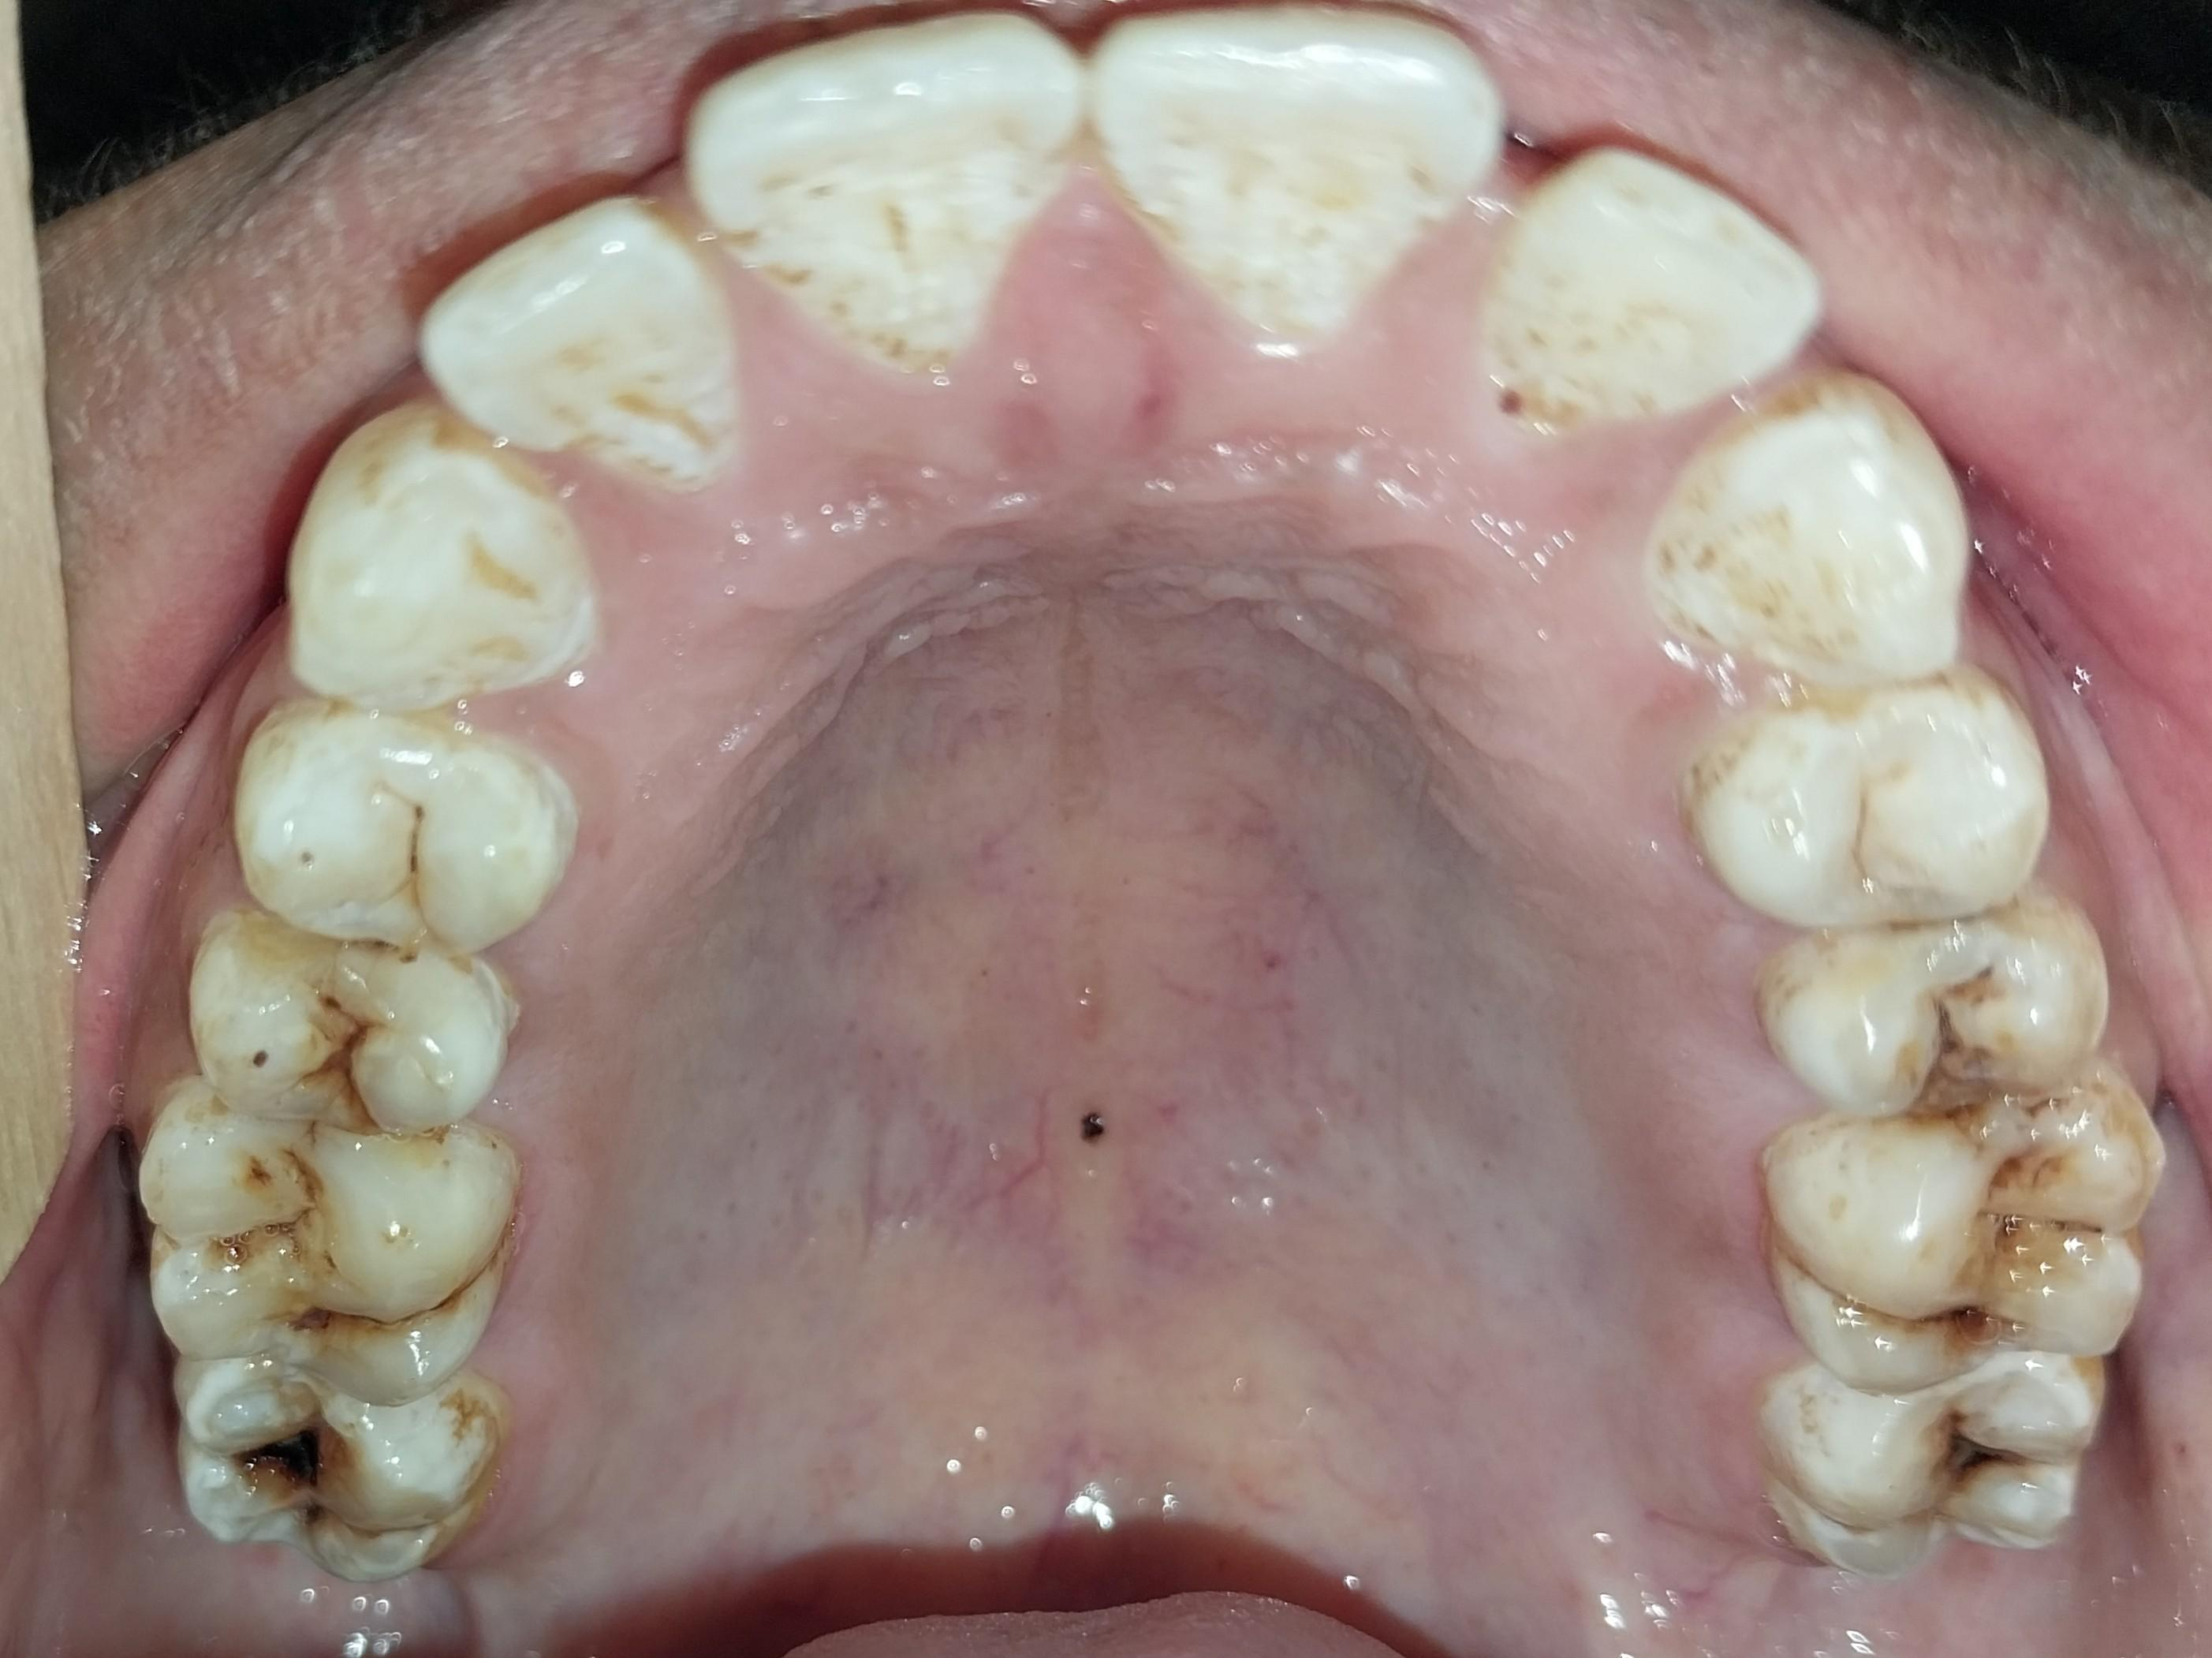D: (137, 1092, 515, 1404), (1773, 1086, 2163, 1384), (1765, 1355, 2101, 1574), (189, 914, 509, 1137), (176, 1355, 491, 1578), (1763, 920, 2110, 1121)
